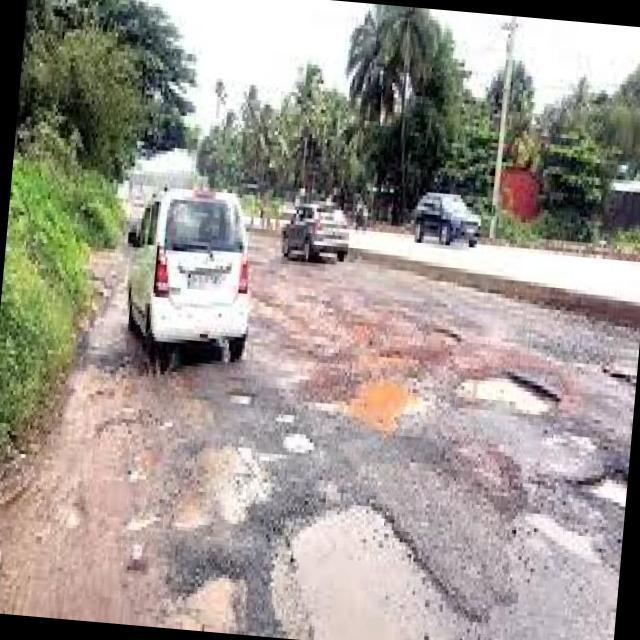Pothole: (271, 505, 470, 640), (459, 371, 558, 412), (203, 449, 241, 523)
